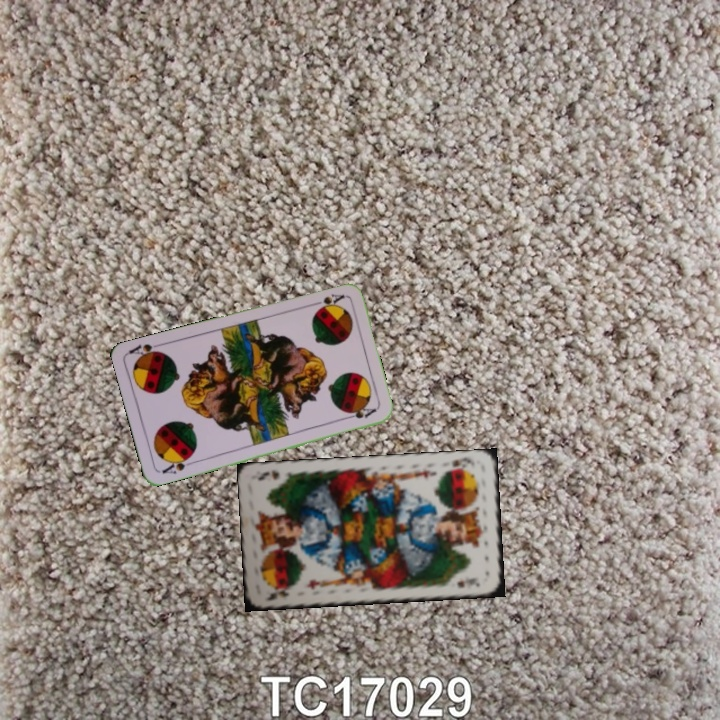SA: (307, 289, 347, 314), (158, 452, 197, 476)
SK: (441, 454, 476, 474), (261, 585, 291, 603)
